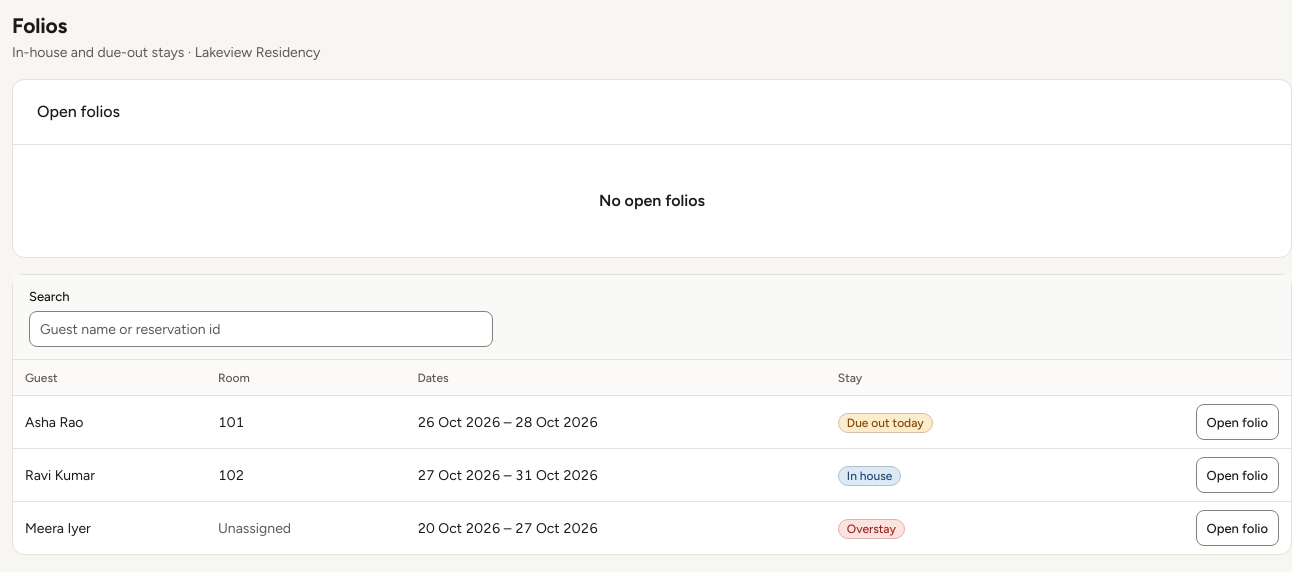
FoliosDirectoryScreen › filters the list by reservation id
Expected: the link "Asha Rao" is shown, [25,414,83,431]
Type "res_over" into the search field labelled "Search" at (261, 330), box [29,312,493,348]
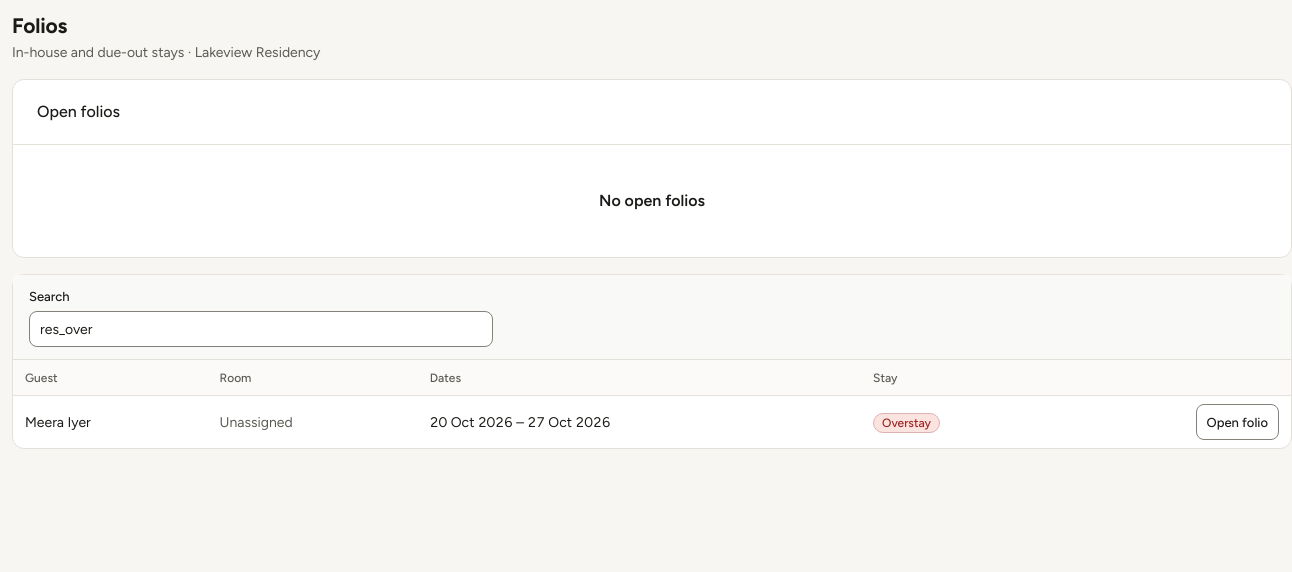
Expected: the link "Meera Iyer" is shown, [25,414,91,431]
Now the link "Ravi Kumar" is gone
